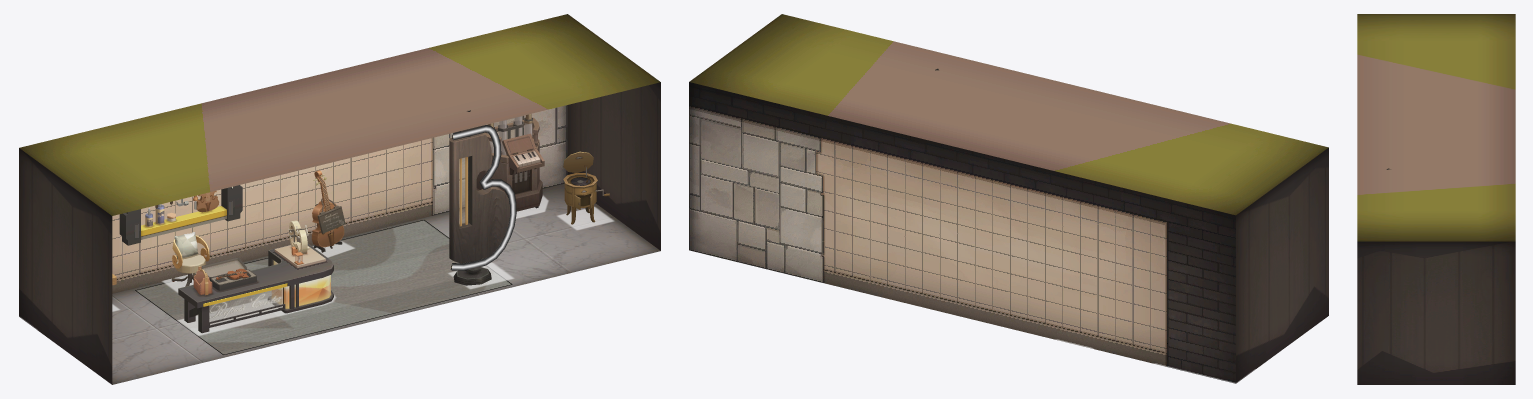
File: mis.glb
3 views of the same model, side by side, from view 1: azimuth 30°, elevation 25°; view 2: azimuth 150°, elevation 25°; view 3: azimuth 270°, elevation 25° (orthographic). The views are drawn at different scales.
Parts seen in each view (by area): view 1: ROOM_room, ROOM_floor, furni_mis_carpet_01, furni_mis_desk_01, furni_mis_decoration_01, furni_mis_pyrophone_01, furni_mis_rack_01, furni_mis_phonograph_01, furni_mis_decoration_light_01, furni_mis_cello_01, ROOM_RDoor, ROOM_LDoor (+4 smaller); view 2: ROOM_room, ROOM_LDoor; view 3: ROOM_room, ROOM_RDoor.
Part boxes in pixels (x1=…): ROOM_room: x1=19, y1=14, x2=660, y2=384; ROOM_floor: x1=112, y1=183, x2=660, y2=384; furni_mis_carpet_01: x1=135, y1=220, x2=512, y2=354; furni_mis_desk_01: x1=178, y1=220, x2=333, y2=333; furni_mis_decoration_01: x1=449, y1=110, x2=509, y2=285; furni_mis_pyrophone_01: x1=476, y1=114, x2=544, y2=211; furni_mis_rack_01: x1=119, y1=185, x2=242, y2=245; furni_mis_phonograph_01: x1=563, y1=151, x2=609, y2=224; furni_mis_decoration_light_01: x1=450, y1=125, x2=516, y2=270; furni_mis_cello_01: x1=311, y1=170, x2=345, y2=252; ROOM_RDoor: x1=628, y1=150, x2=647, y2=240; ROOM_LDoor: x1=79, y1=284, x2=98, y2=374; ROOM_room: x1=689, y1=14, x2=1328, y2=383; ROOM_LDoor: x1=1296, y1=249, x2=1315, y2=339; ROOM_room: x1=1357, y1=14, x2=1515, y2=384; ROOM_RDoor: x1=1380, y1=319, x2=1412, y2=384.
Bounding box in the file's own units: 7.52 × 2.2 × 2.25.
Materials: 8 (8 with a texture image).
